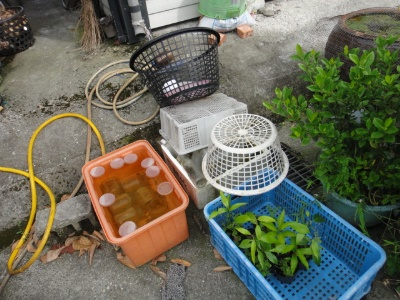box: (81, 137, 193, 268)
